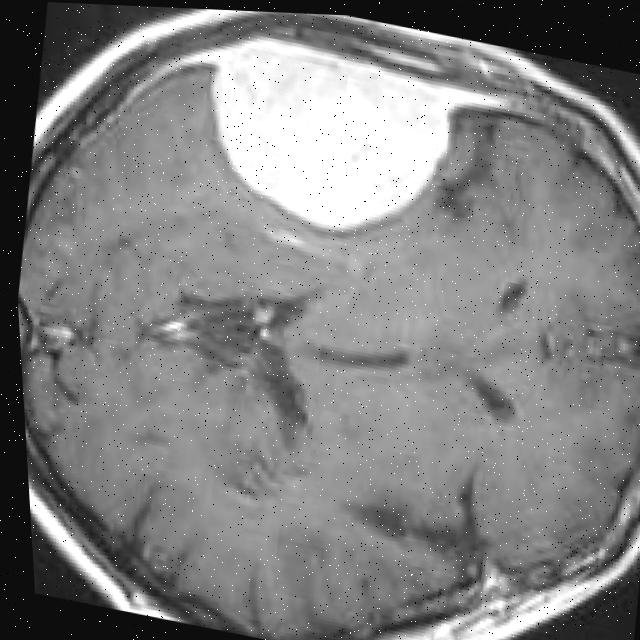Meningioma: (178, 18, 468, 259)
